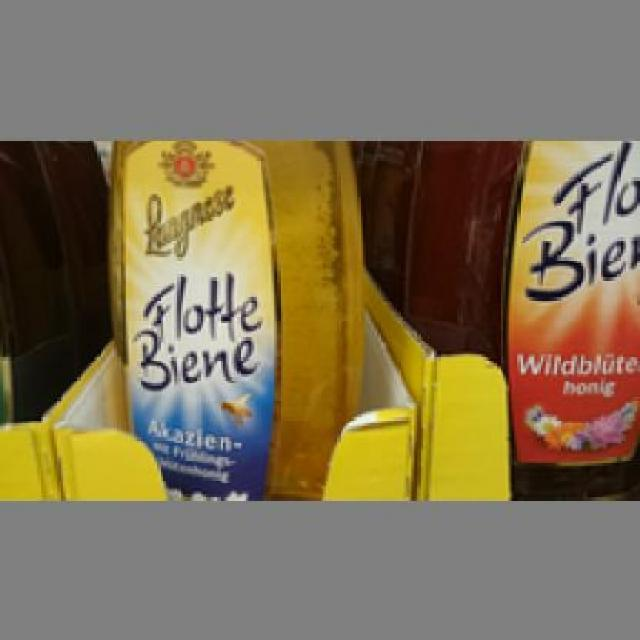Honey: (108, 137, 361, 497), (417, 134, 634, 494)
